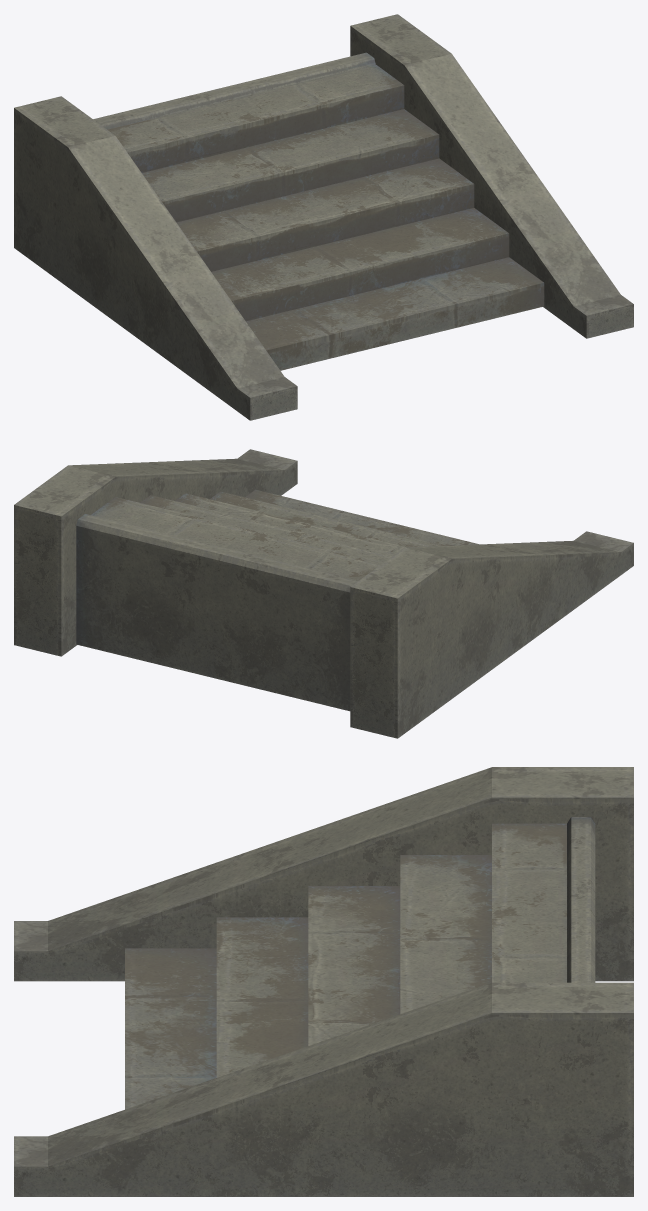
The model's file is AD_GateStair_A_01.fbx.
3 renders of one model, top to bottom at view 1: azimuth 30°, elevation 25°; view 2: azimuth 150°, elevation 25°; view 3: azimuth 270°, elevation 25°, orthographic. The views are drawn at different scales.
Visible parts, largest first — view 1: AD_GateStair_A_01; view 2: AD_GateStair_A_01; view 3: AD_GateStair_A_01.
Part boxes in pixels (x1,y1,x2,y2): AD_GateStair_A_01: (14, 14, 633, 420); AD_GateStair_A_01: (14, 449, 633, 738); AD_GateStair_A_01: (14, 767, 633, 1196).
Size of the model in its own units: 507 by 177 by 540.
2 materials, 2 textured.
